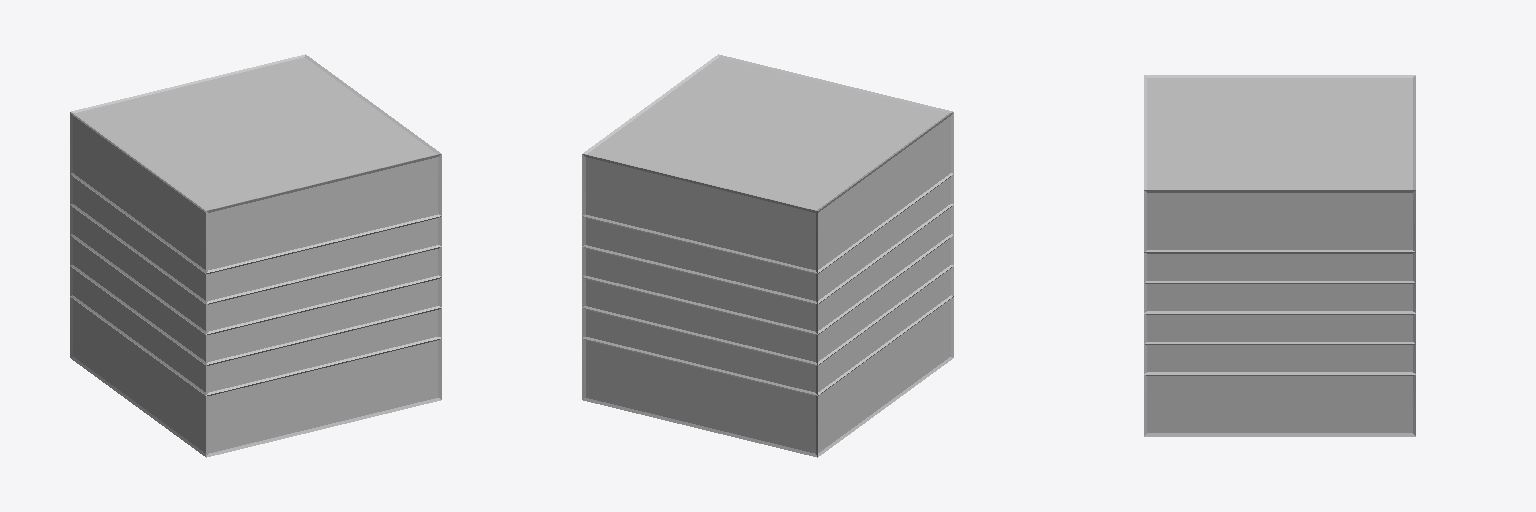
The model's file is building03.obj.
The picture shows the model from 3 angles: view 1: azimuth 30°, elevation 25°; view 2: azimuth 150°, elevation 25°; view 3: azimuth 270°, elevation 25°; orthographic projection.
Parts seen in each view (by area): view 1: Cube.002; view 2: Cube.002; view 3: Cube.002.
Part boxes in pixels (left/top/right/bottom): Cube.002: left=70, top=54, right=441, bottom=457; Cube.002: left=582, top=54, right=953, bottom=457; Cube.002: left=1144, top=75, right=1415, bottom=436.
Bounding box in the file's own units: 2.02 × 2.02 × 2.02.